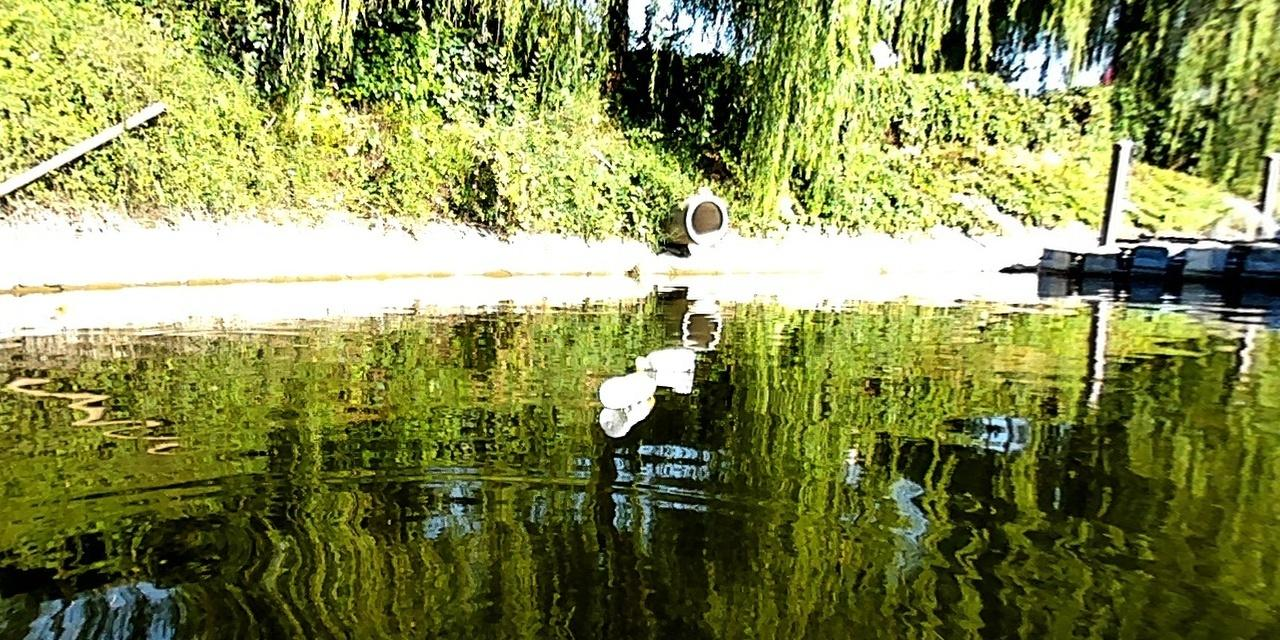bottle: (595, 371, 654, 404), (640, 347, 695, 370)
